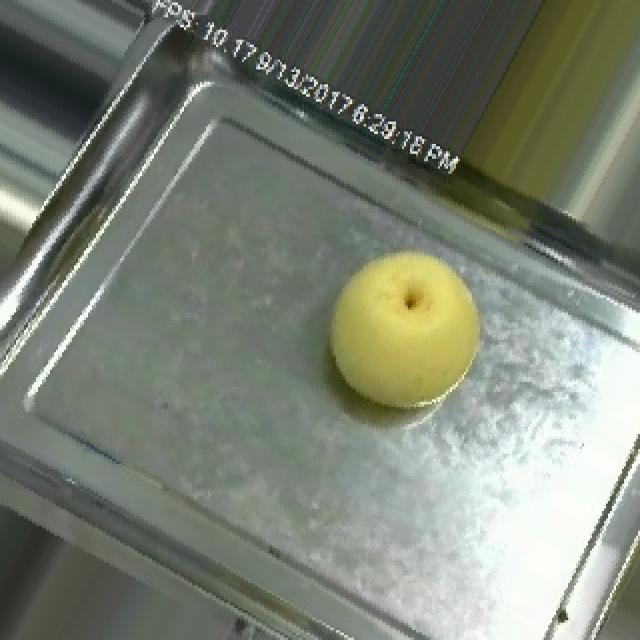Fruit: (298, 221, 508, 439)
